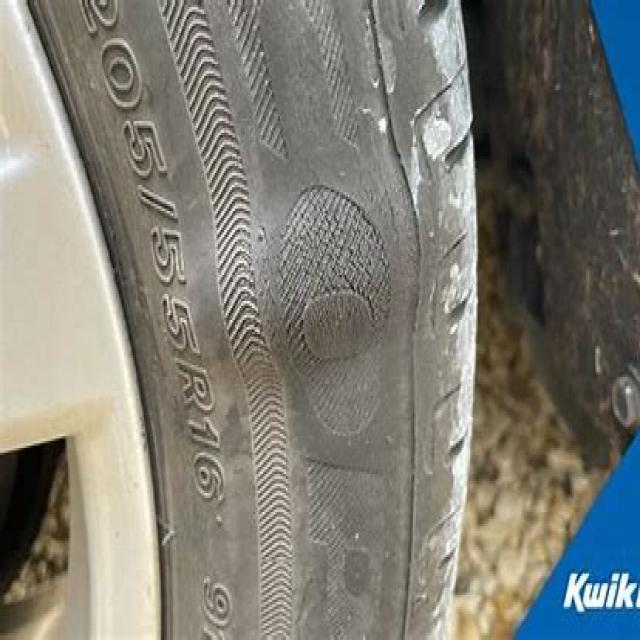Bulge: (164, 144, 438, 382)
